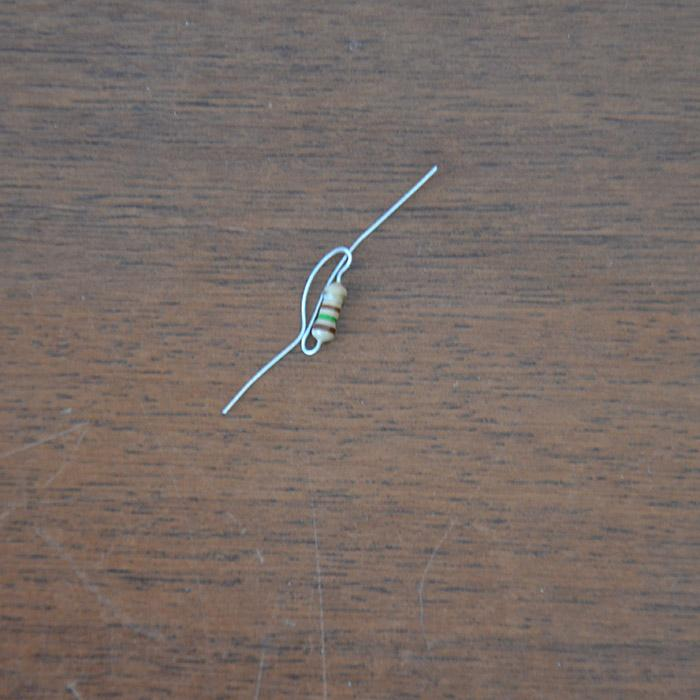resistor: (310, 278, 348, 344)
